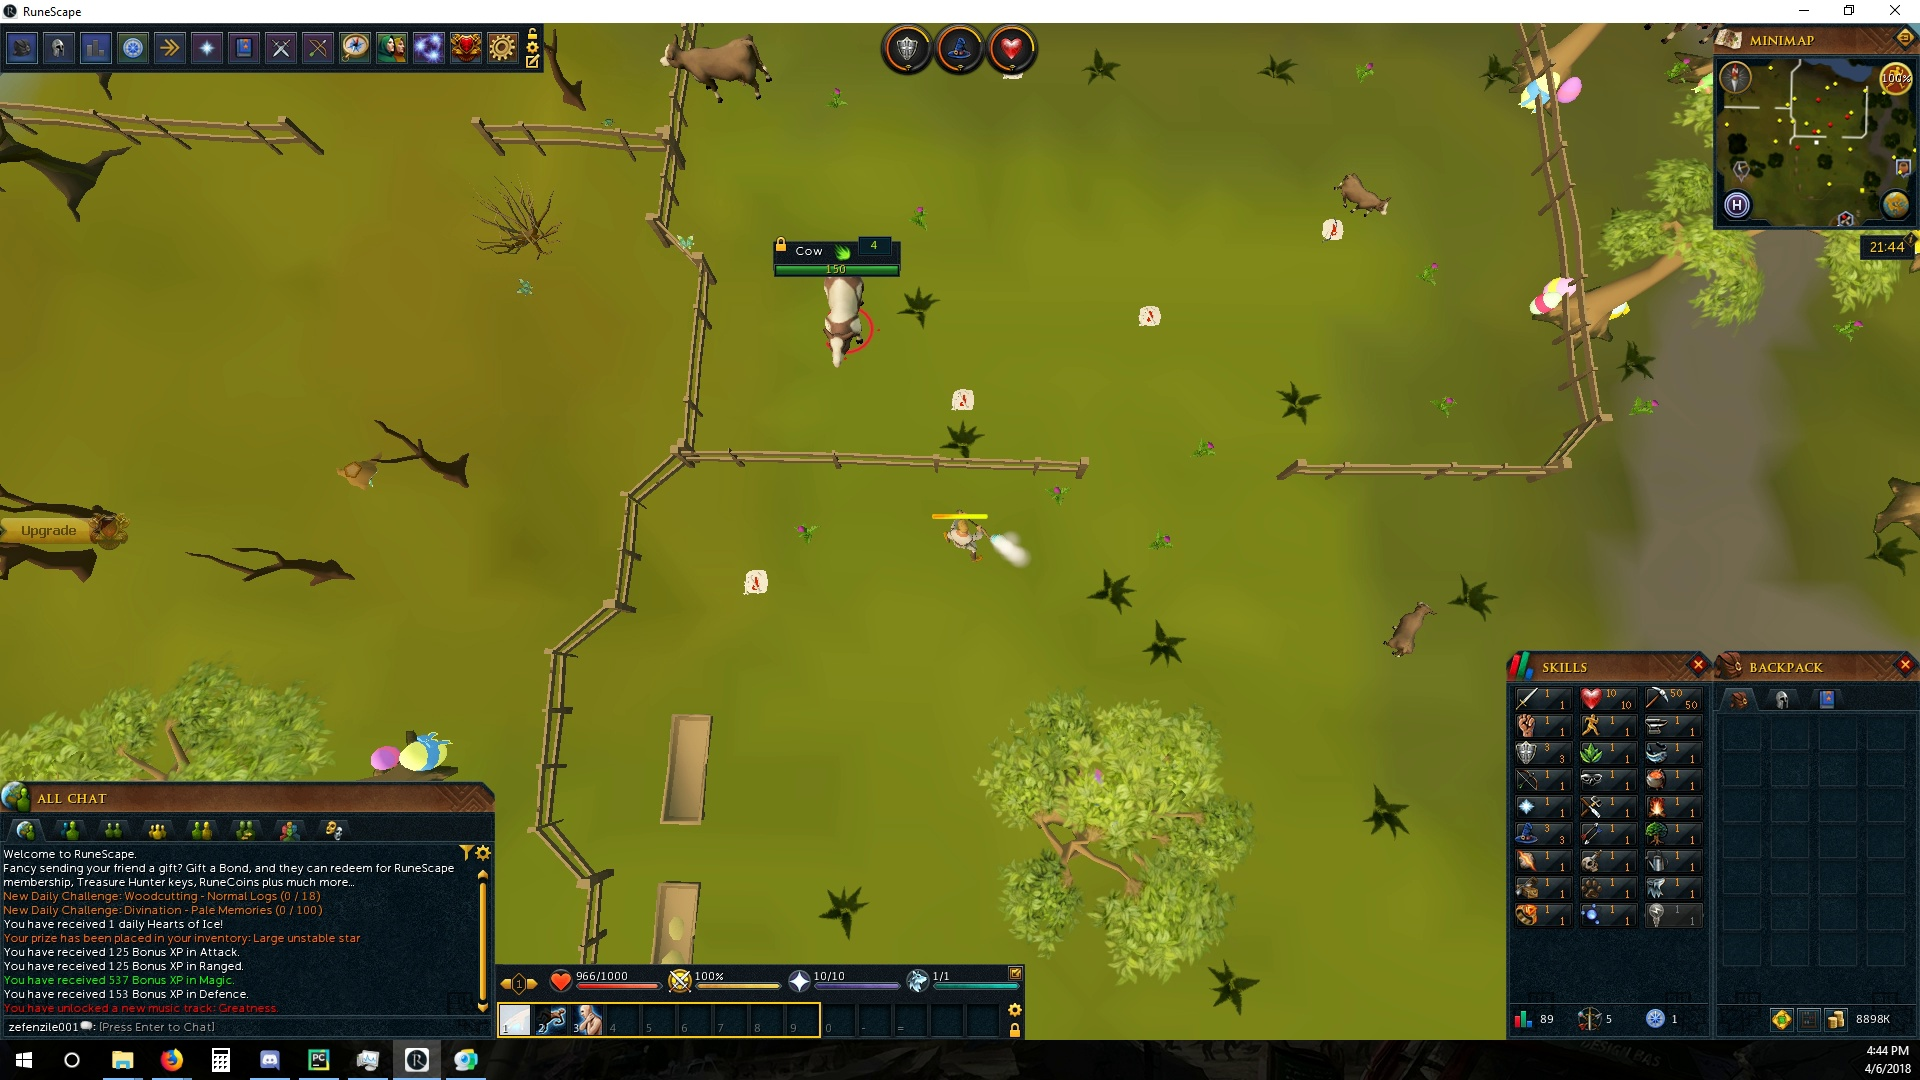calf: (1382, 600, 1437, 657), (1333, 169, 1393, 219)
cow: (659, 32, 779, 105), (818, 280, 870, 376)
cow_drop: (1139, 301, 1164, 334), (742, 570, 771, 596), (947, 386, 977, 411), (1321, 215, 1346, 244)
